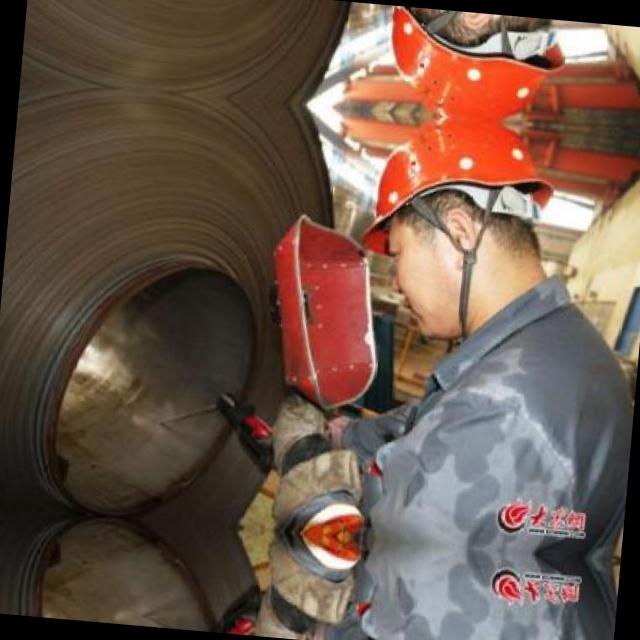helmet: (349, 110, 557, 348), (368, 4, 568, 126)
